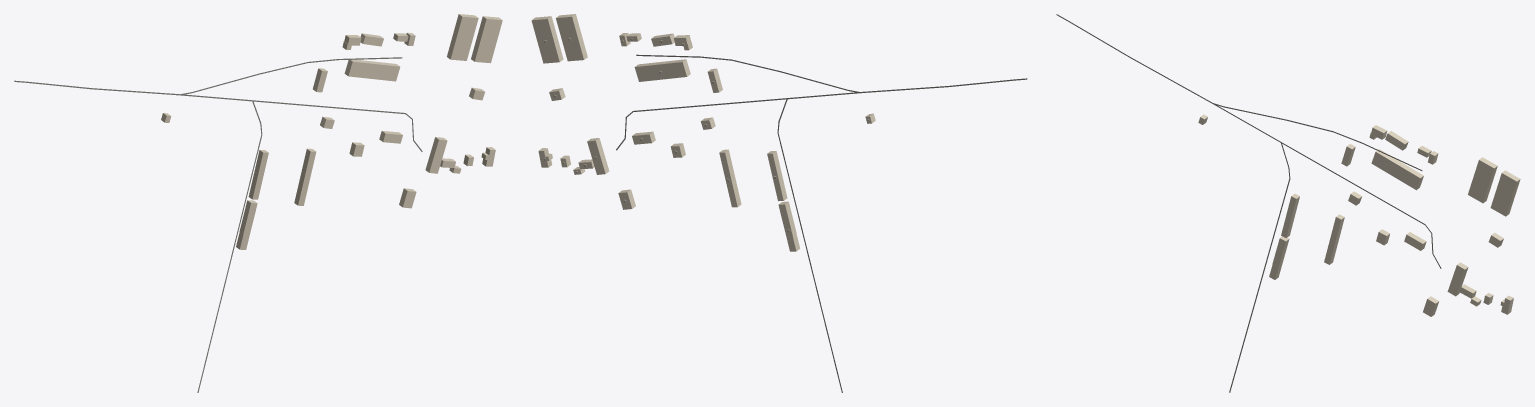
Rendered from aqaba_3504_2962.glb.
3 renders of one model, left to right at view 1: azimuth 30°, elevation 25°; view 2: azimuth 150°, elevation 25°; view 3: azimuth 330°, elevation 25°, orthographic. The views are drawn at different scales.
Visible parts, largest first — view 1: Building_.001, Building_, Building_.002, Road, Building_.011, Building_.009, Building_.010, Road .002, Road .001, Building_.004; view 2: Building_.001, Building_, Building_.002, Road, Building_.011, Building_.009, Road .002, Building_.010, Road .001, Building_.004; view 3: Building_.002, Building_, Building_.001, Road, Building_.011, Road .001, Road .002, Building_.009, Building_.010.
Boxes of the visible parts, box(x1,y1,x2,y2) form: Building_.001: box(471, 16, 502, 63); Building_: box(447, 14, 478, 60); Building_.002: box(344, 59, 400, 81); Road: box(14, 57, 402, 95); Building_.011: box(294, 148, 316, 205); Building_.009: box(236, 200, 257, 249); Building_.010: box(248, 150, 268, 199); Road .002: box(197, 101, 262, 392); Road .001: box(181, 94, 422, 151); Building_.004: box(425, 137, 447, 173); Building_.001: box(531, 16, 563, 63); Building_: box(556, 14, 587, 61); Building_.002: box(634, 59, 690, 81); Road: box(636, 54, 1027, 93); Building_.011: box(719, 149, 741, 207); Building_.009: box(778, 201, 799, 251); Road .002: box(777, 99, 842, 392); Building_.010: box(767, 151, 787, 201); Road .001: box(616, 92, 859, 150); Building_.004: box(587, 138, 609, 174); Building_.002: box(1371, 149, 1423, 190); Building_: box(1468, 157, 1497, 203); Building_.001: box(1490, 170, 1520, 216); Road: box(1056, 14, 1422, 170); Building_.011: box(1324, 214, 1344, 264); Road .001: box(1213, 103, 1441, 268); Road .002: box(1229, 143, 1290, 392); Building_.009: box(1269, 236, 1289, 279); Building_.010: box(1281, 193, 1299, 237).
Bounding box in the file's own units: 557 × 389 × 8.7.
